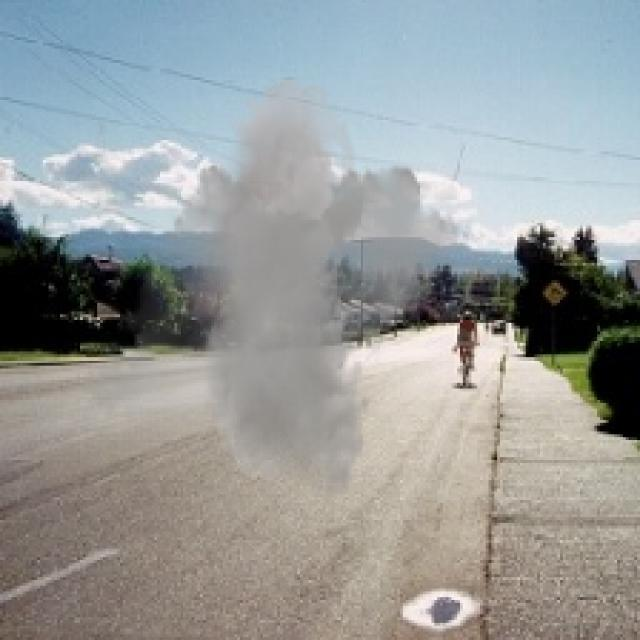Smoke: (77, 77, 472, 500)
